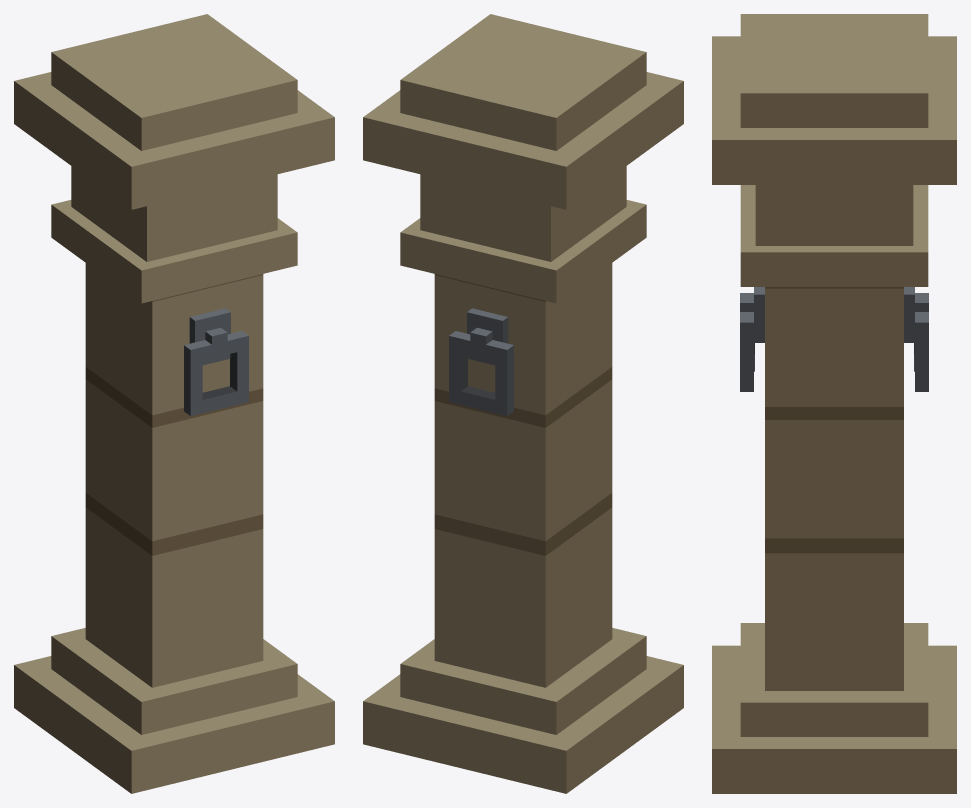
File: Pillar.gltf
3 renders of one model, left to right at view 1: azimuth 30°, elevation 25°; view 2: azimuth 150°, elevation 25°; view 3: azimuth 270°, elevation 25°, orthographic. The views are drawn at different scales.
Parts seen in each view (by area): view 1: SF_Prop_Pillar_01; view 2: SF_Prop_Pillar_01; view 3: SF_Prop_Pillar_01.
Part boxes in pixels (x1,y1,x2,y2): SF_Prop_Pillar_01: [14, 14, 334, 793]; SF_Prop_Pillar_01: [363, 14, 683, 793]; SF_Prop_Pillar_01: [712, 14, 956, 793].
Bounding box in the file's own units: 0.014 × 0.0433 × 0.014.
Materials: 1 (1 with a texture image).
